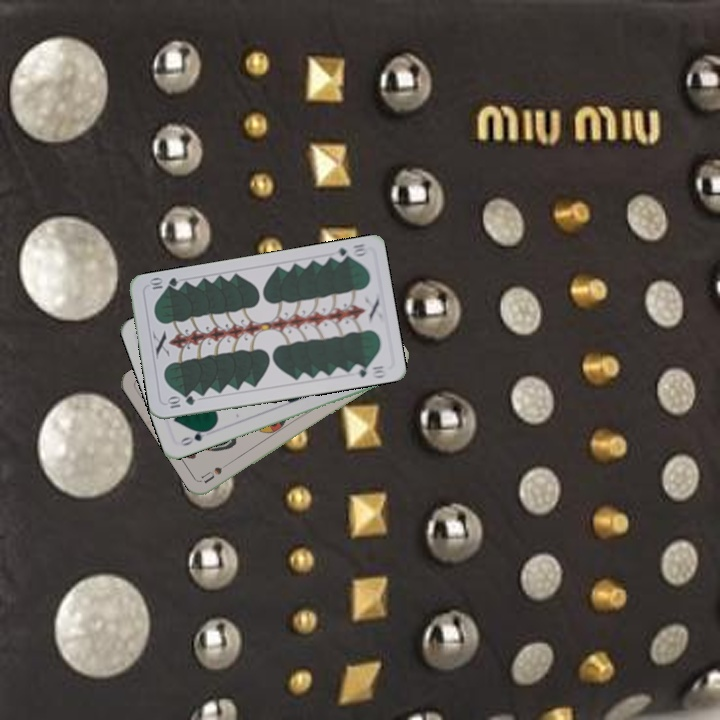G10: (329, 240, 370, 264), (163, 392, 198, 411)
GO: (176, 424, 214, 449)
SU: (197, 463, 225, 486)
